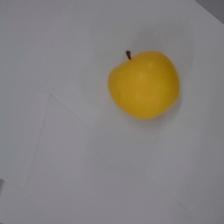yellow: (104, 43, 183, 122)
